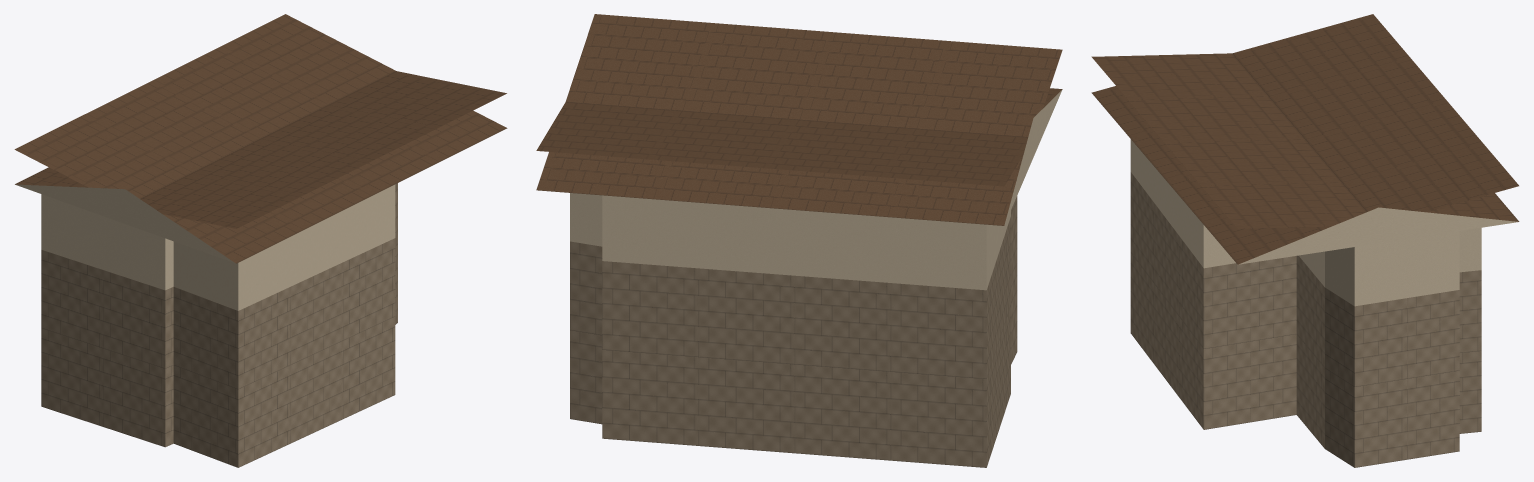
Rendered from bld_c23_31_383.gltf.
3 views of the same model, side by side, from view 1: azimuth 30°, elevation 25°; view 2: azimuth 150°, elevation 25°; view 3: azimuth 270°, elevation 25° (orthographic). The views are drawn at different scales.
Visible parts, largest first — view 1: bld_c23_31_383; view 2: bld_c23_31_383; view 3: bld_c23_31_383.
Boxes of the visible parts, <box> form: bld_c23_31_383: <box>14,14,507,467</box>; bld_c23_31_383: <box>536,14,1062,467</box>; bld_c23_31_383: <box>1091,14,1519,467</box>.
Bounding box in the file's own units: 12.83 × 7.4 × 10.8.
4 materials, 4 textured.
